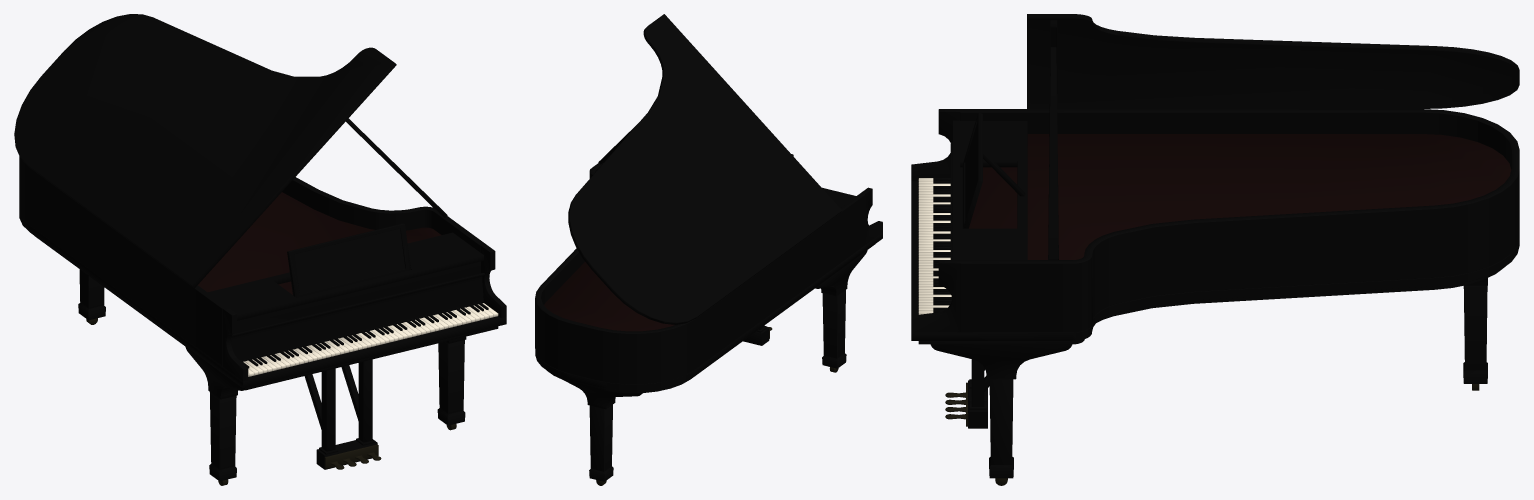
Rendered from Piano.fbx.
The picture shows the model from 3 angles, left to right: view 1: azimuth 30°, elevation 25°; view 2: azimuth 150°, elevation 25°; view 3: azimuth 270°, elevation 25°; orthographic projection. The views are drawn at different scales.
Visible parts, largest first — view 1: Piano; view 2: Piano; view 3: Piano.
Part boxes in pixels (left/top/right/bottom): Piano: left=14, top=14, right=506, bottom=485; Piano: left=535, top=14, right=882, bottom=485; Piano: left=911, top=14, right=1519, bottom=485.
Bounding box in the file's own units: 59.9 × 79.58 × 98.99.
